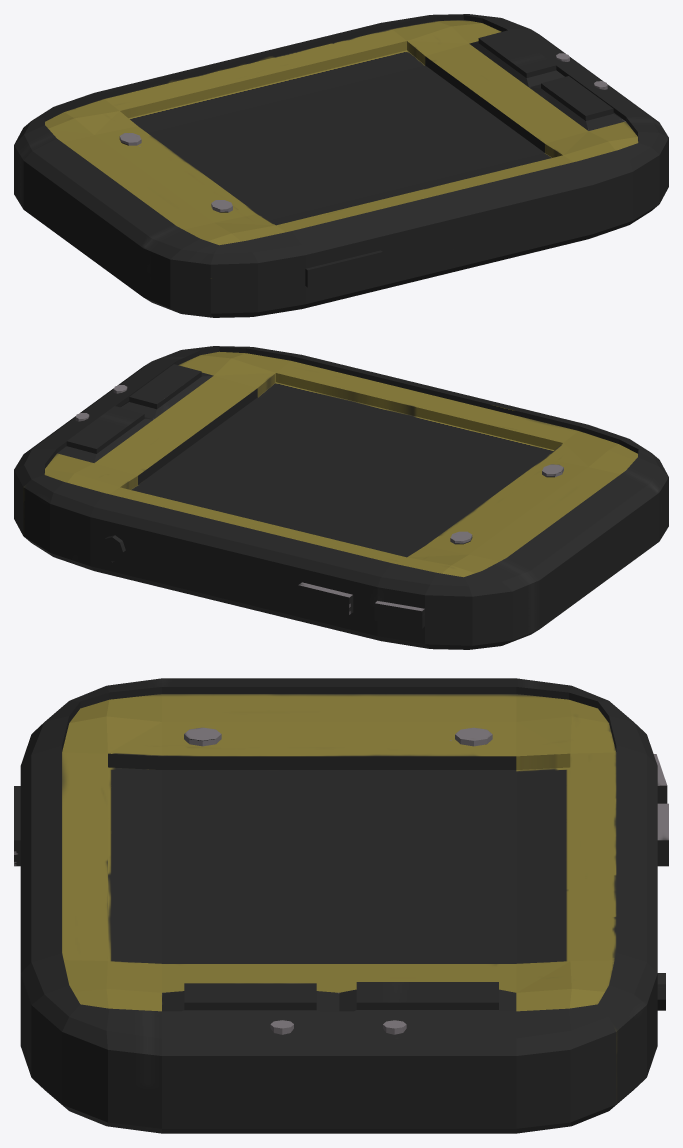
Rendered from gps.glb.
The picture shows the model from 3 angles, top to bottom: view 1: azimuth 30°, elevation 25°; view 2: azimuth 150°, elevation 25°; view 3: azimuth 270°, elevation 25°; orthographic projection. The views are drawn at different scales.
Visible parts, largest first — view 1: Cube; view 2: Cube; view 3: Cube.
Part boxes in pixels (left/top/right/bottom): Cube: left=14, top=14, right=668, bottom=317; Cube: left=14, top=346, right=668, bottom=649; Cube: left=14, top=678, right=668, bottom=1133.
Bounding box in the file's own units: 1.55 × 0.2491 × 1.15.
1 material, 1 textured.
